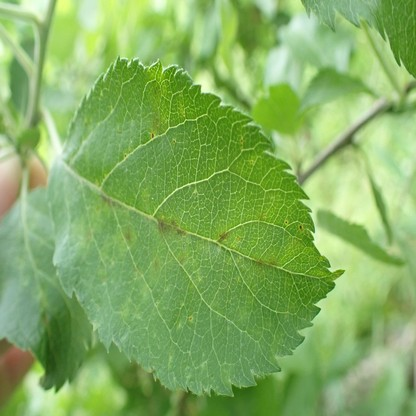scab: (73, 211, 94, 248), (94, 194, 126, 214), (159, 217, 185, 241), (118, 221, 136, 250), (252, 254, 277, 274), (215, 229, 230, 246), (151, 256, 162, 277), (119, 302, 129, 316), (178, 251, 186, 263)
